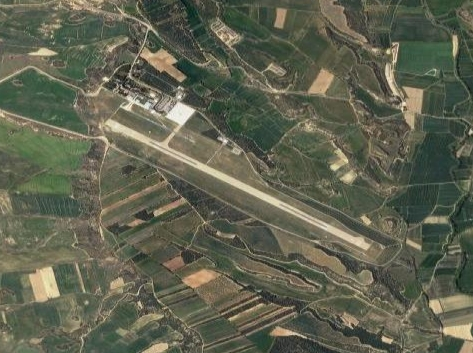airport: (102, 99, 374, 253)
motorway: (107, 1, 133, 21), (132, 37, 148, 66), (133, 19, 158, 36)
